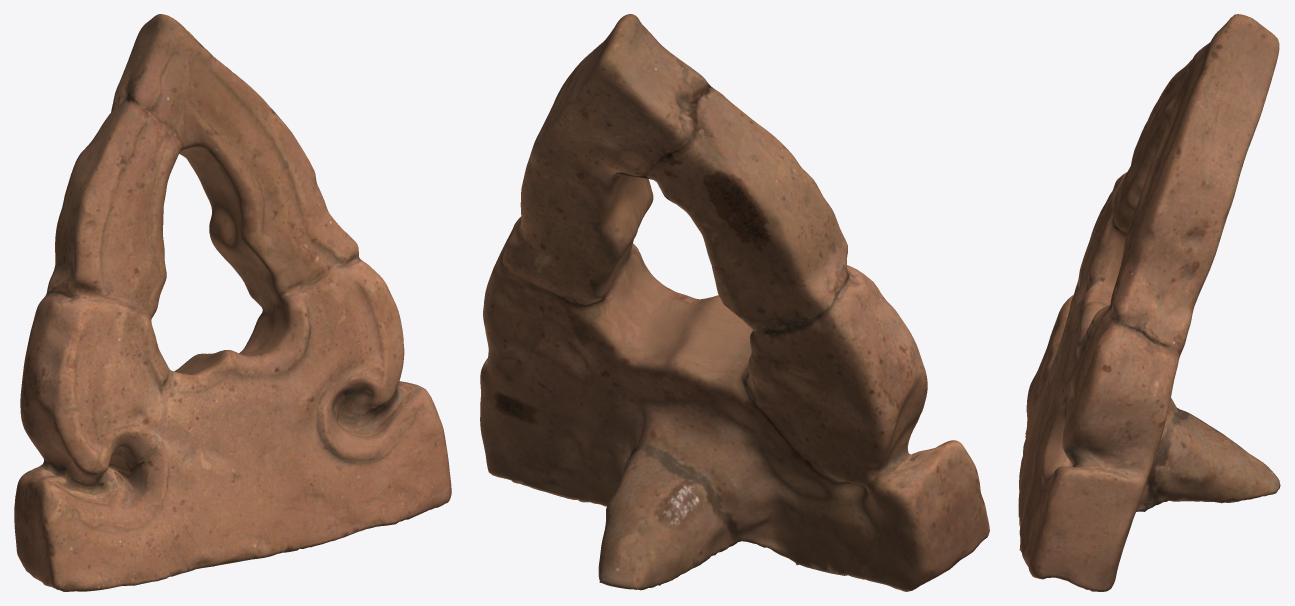
File: MysonMuseum_diemmai3canh_final.glb
3 views of the same model, side by side, from view 1: azimuth 30°, elevation 25°; view 2: azimuth 150°, elevation 25°; view 3: azimuth 270°, elevation 25° (orthographic). The views are drawn at different scales.
Bounding box in the file's own units: 0.2179 × 0.2523 × 0.1217.
1 material, 1 textured.
